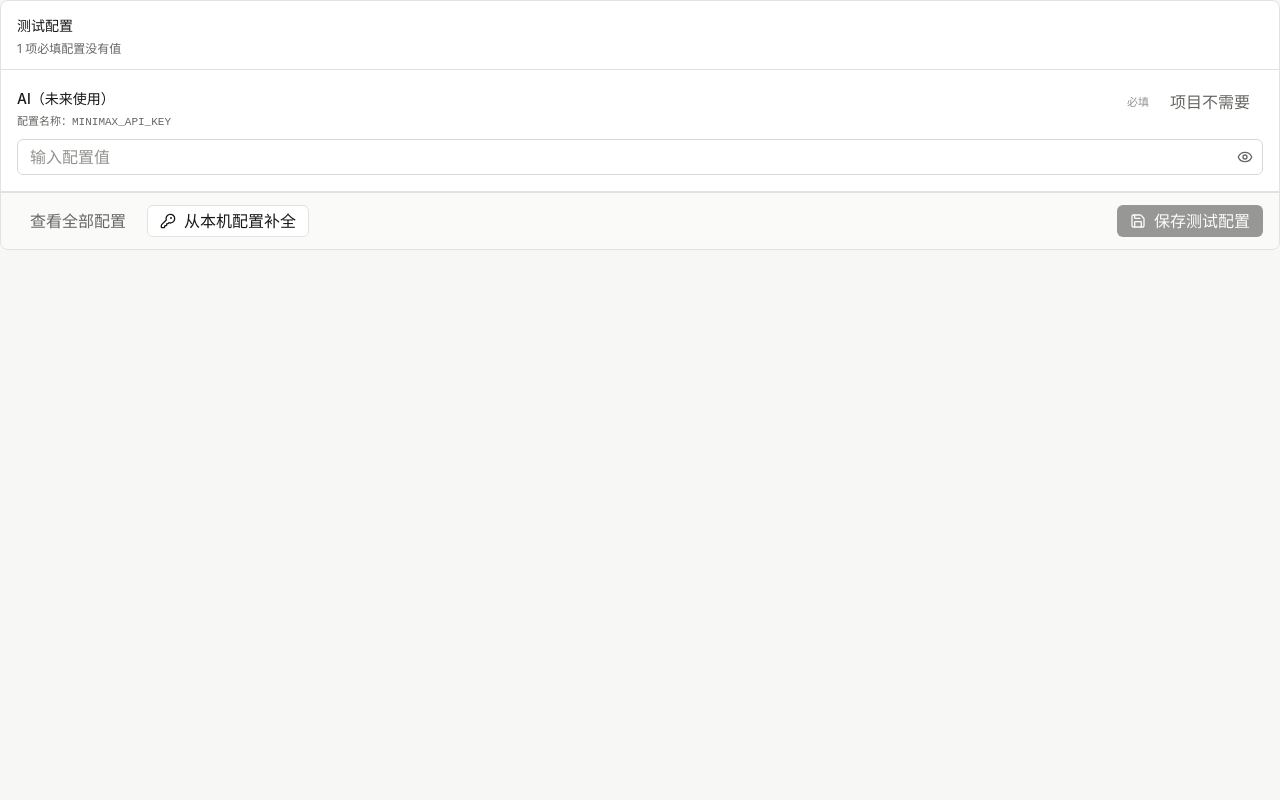
parseEnvFields › lets the user explicitly stop an unused setting from blocking deployment
Click the button "项目不需要".
click(1210, 102)  # box [1157, 86, 1263, 118]
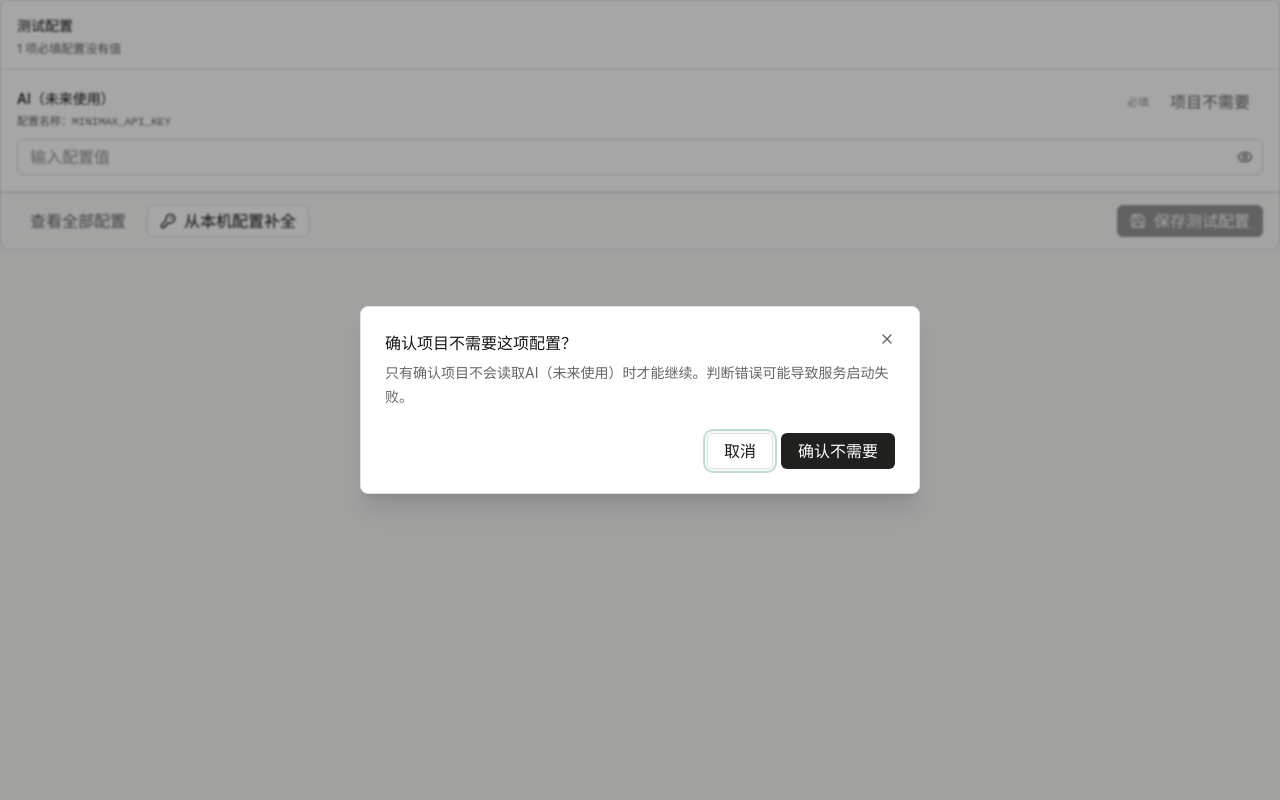
Result: the heading "确认项目不需要这项配置？" is shown at [385, 333, 577, 353]
Click the button "确认不需要".
click(838, 451)  # box [781, 433, 895, 469]
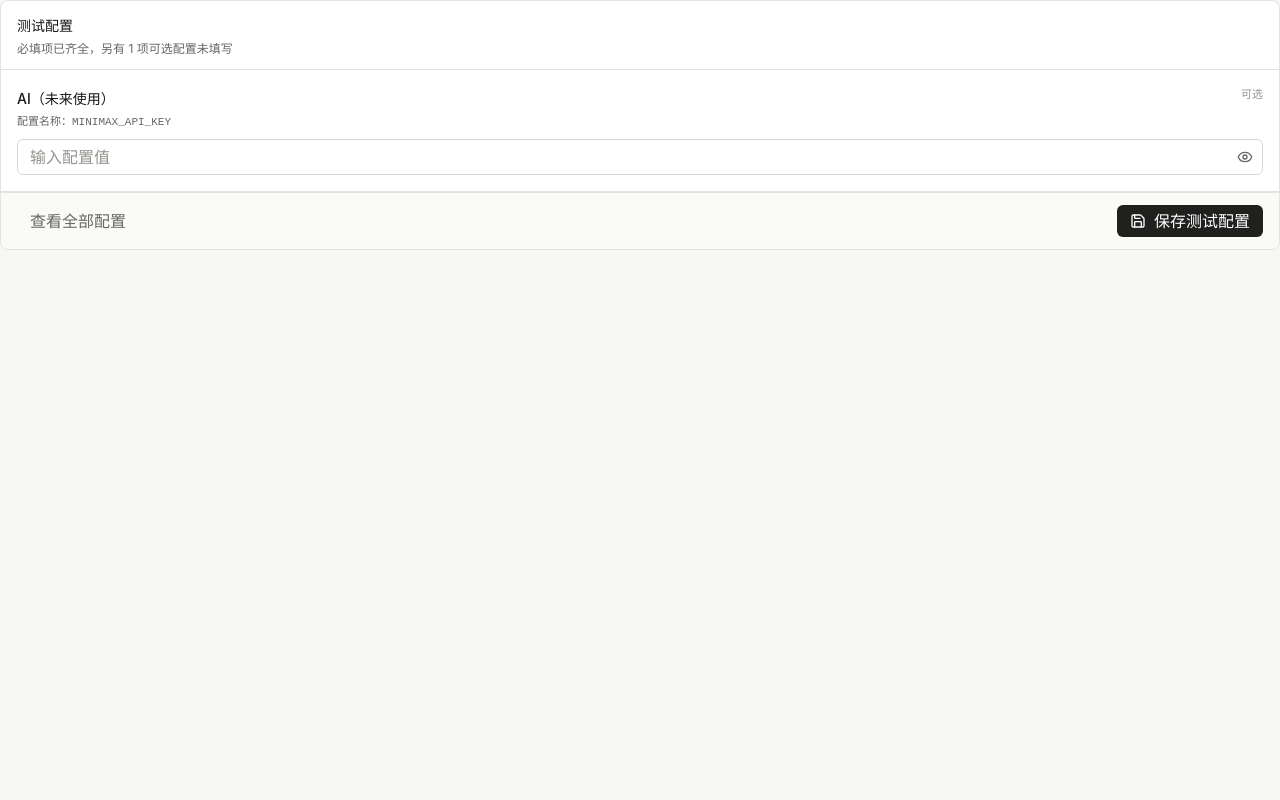
Result: the text "可选" is shown at [1241, 86, 1263, 102]
